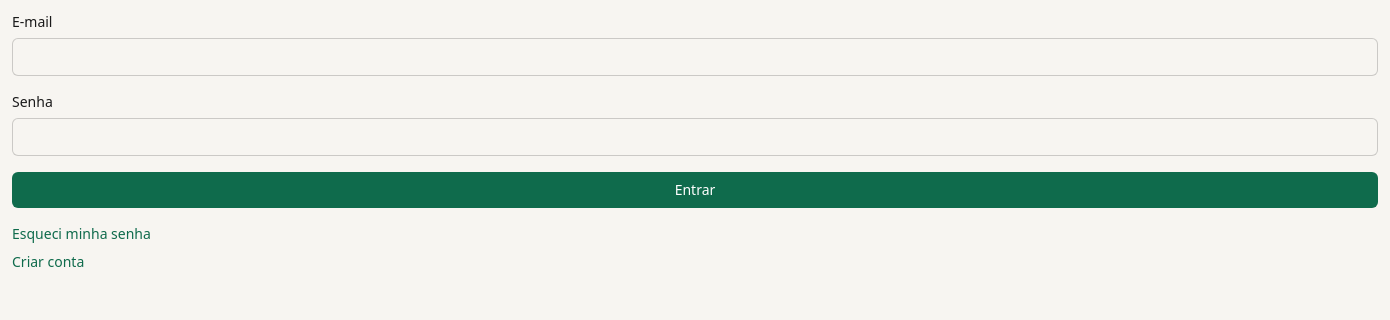
Test case: LoginForm (LOG-05, LOG-06, LOG-08, LOG-10, LOG-13) › shows anti-enum message for 401 INVALID_CREDENTIALS
Type "user@example.com" into the field labelled "E-mail" at x=695, y=57, box [12,38,1378,76]
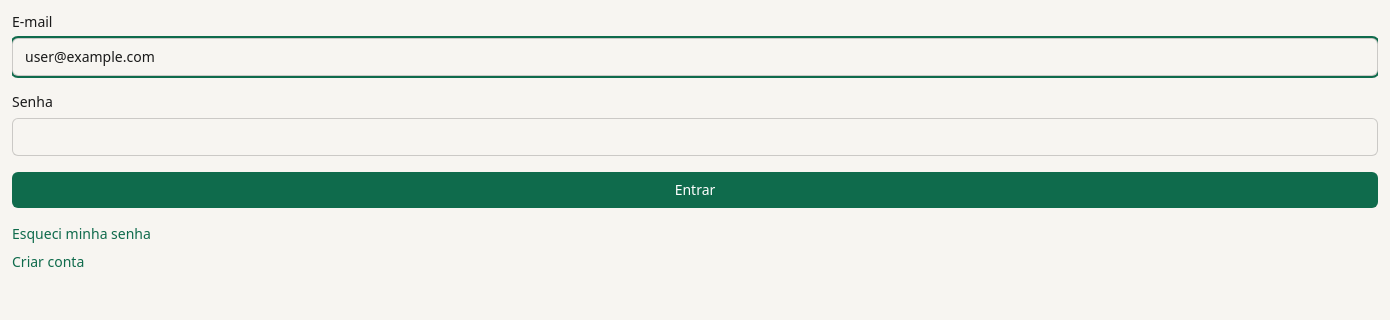
Type "wrong" into the password field labelled "Senha" at x=695, y=137, box [12,118,1378,156]
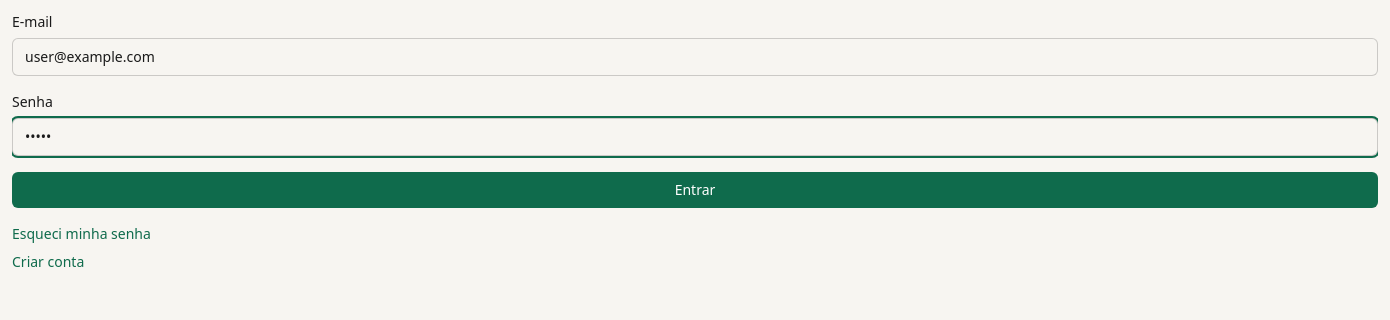
Click the button "Entrar" at x=695, y=190, box [12,172,1378,208]
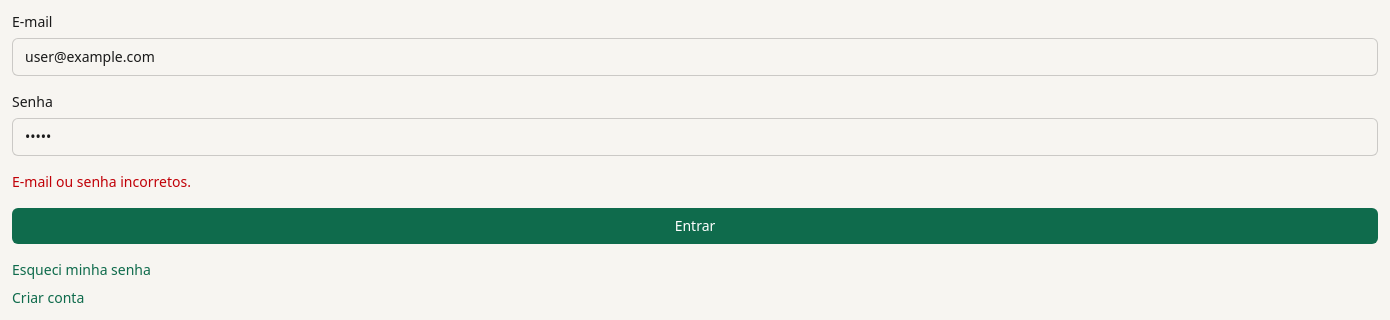
Result: the message reads "E-mail ou senha incorretos." at [12,172,191,191]
